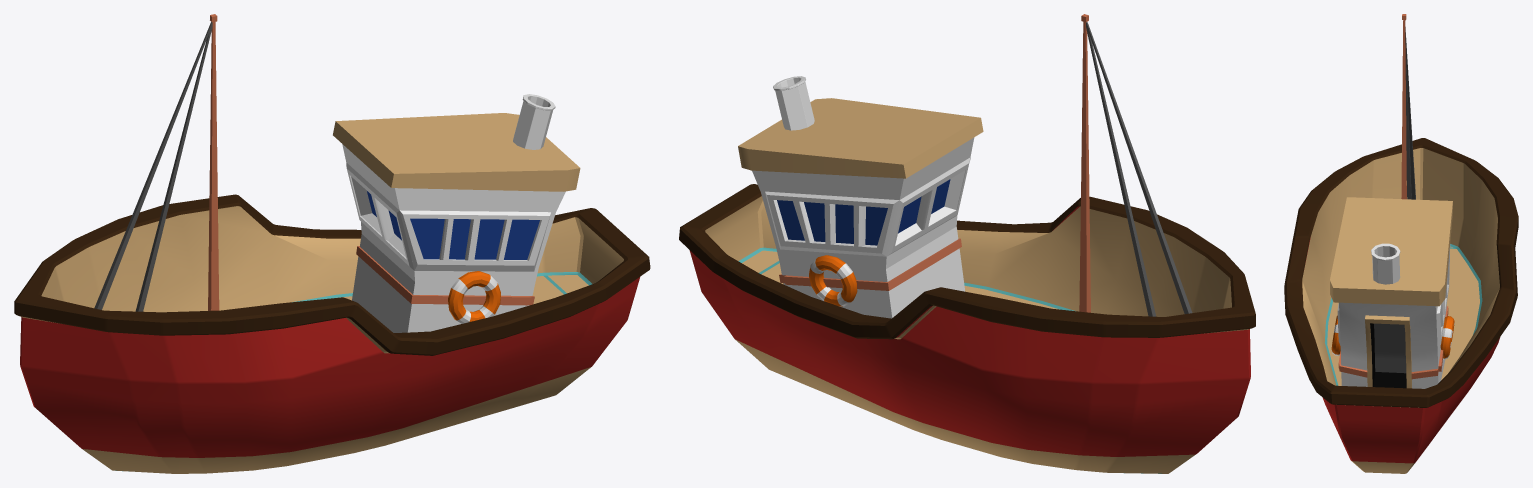
The model's file is red_boat.fbx.
3 views of the same model, side by side, from view 1: azimuth 30°, elevation 25°; view 2: azimuth 150°, elevation 25°; view 3: azimuth 270°, elevation 25° (orthographic). The views are drawn at different scales.
Visible parts, largest first — view 1: pasted__pCube14; view 2: pasted__pCube14; view 3: pasted__pCube14.
Part boxes in pixels (left/top/right/bottom): pasted__pCube14: left=14, top=14, right=650, bottom=473; pasted__pCube14: left=679, top=14, right=1255, bottom=473; pasted__pCube14: left=1284, top=14, right=1518, bottom=473.
Bounding box in the file's own units: 2.9 × 2.08 × 1.3.
